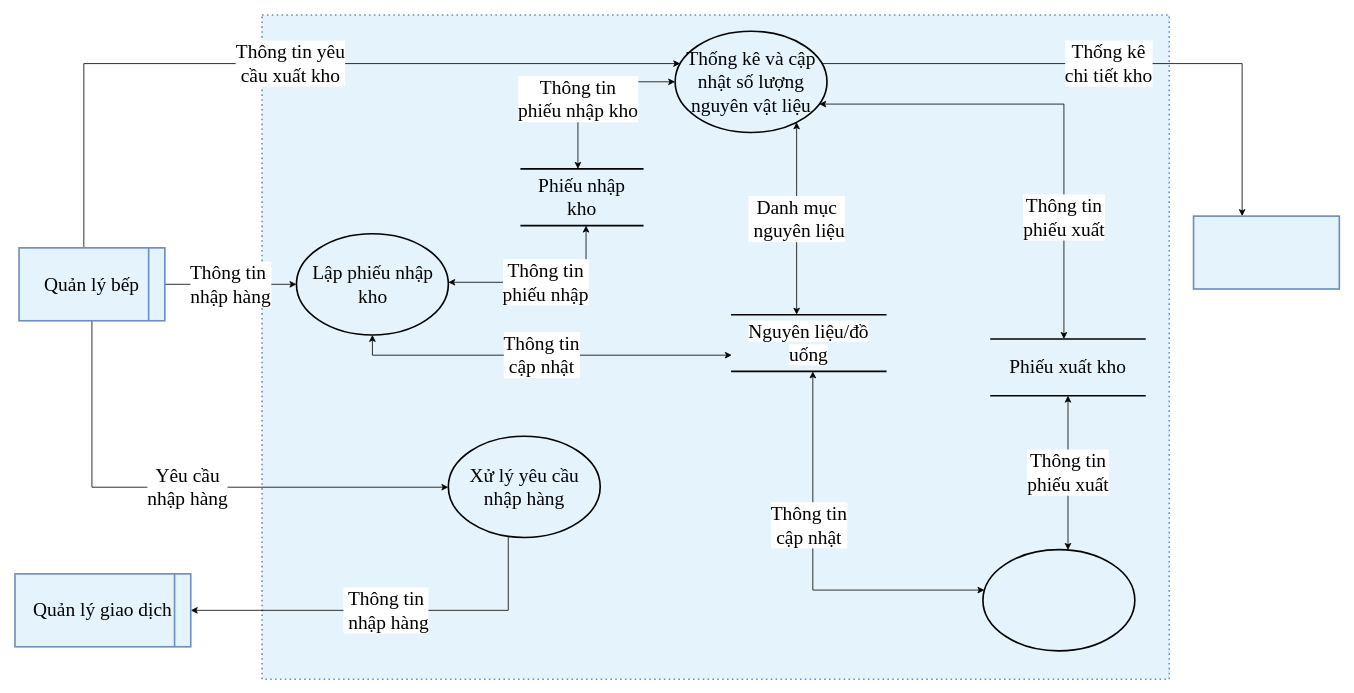
Some shapes in this 1354 by 693 pixel diagram are drawn without their labels. The centre of each missing label's shape, as x and y in pixels:
Lâp phiếu xuất kho: pixel 1058 599
QUẢN LÝ CỬA HÀNG: pixel 1266 252
